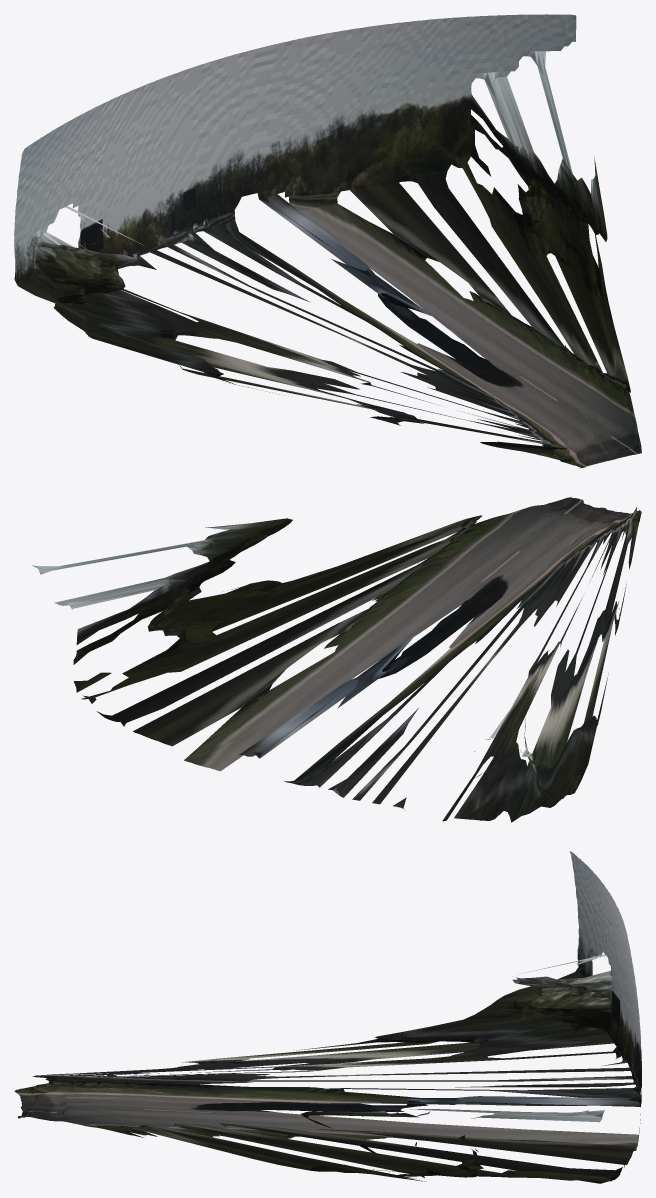
The picture shows the model from 3 angles, top to bottom: view 1: azimuth 30°, elevation 25°; view 2: azimuth 150°, elevation 25°; view 3: azimuth 270°, elevation 25°; orthographic projection. The views are drawn at different scales.
Visible parts, largest first — view 1: defaultobject; view 2: defaultobject; view 3: defaultobject.
Part boxes in pixels (x1=…): defaultobject: x1=14, y1=14, x2=641, y2=468; defaultobject: x1=32, y1=497, x2=641, y2=822; defaultobject: x1=14, y1=851, x2=641, y2=1183.
Bounding box in the file's own units: 40.97 × 13.57 × 44.86.
1 material, 1 textured.
